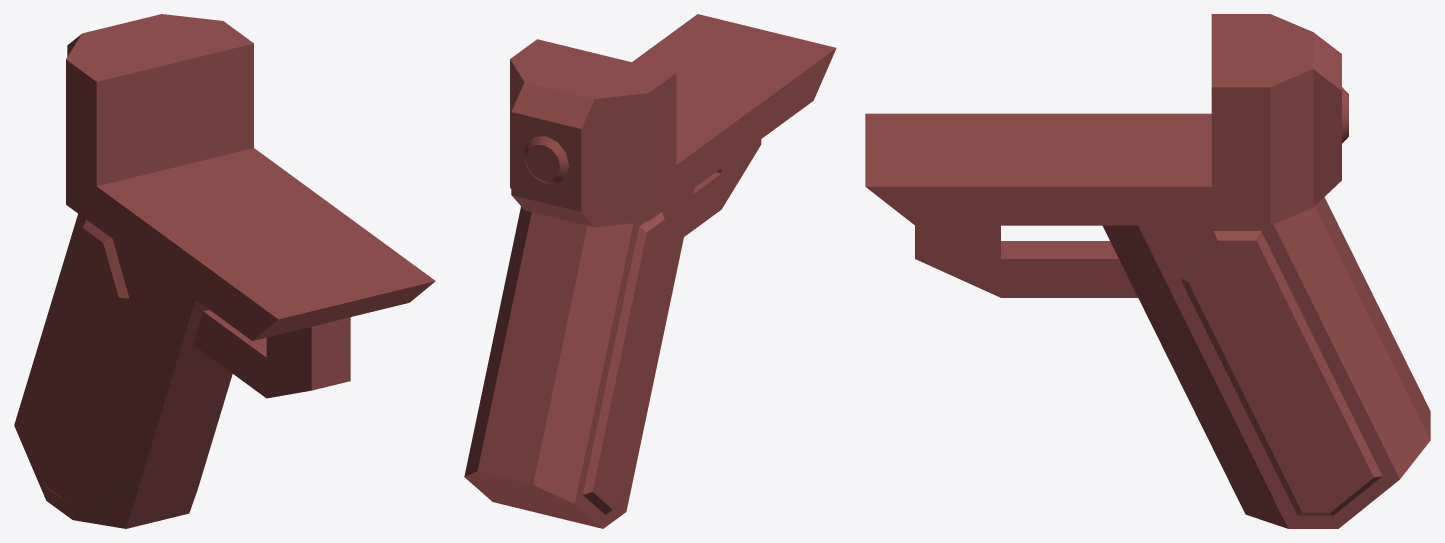
The model's file is WM0_Handle_LVL1.FBX.
3 renders of one model, left to right at view 1: azimuth 30°, elevation 25°; view 2: azimuth 150°, elevation 25°; view 3: azimuth 270°, elevation 25°, orthographic. The views are drawn at different scales.
Parts seen in each view (by area): view 1: WM0_Handle_LVL1; view 2: WM0_Handle_LVL1; view 3: WM0_Handle_LVL1.
Part boxes in pixels (x1,y1,x2,y2): WM0_Handle_LVL1: (14, 14, 435, 528); WM0_Handle_LVL1: (464, 14, 836, 528); WM0_Handle_LVL1: (865, 14, 1430, 528).
Size of the model in its own units: 6.06 by 17.34 by 19.77.
